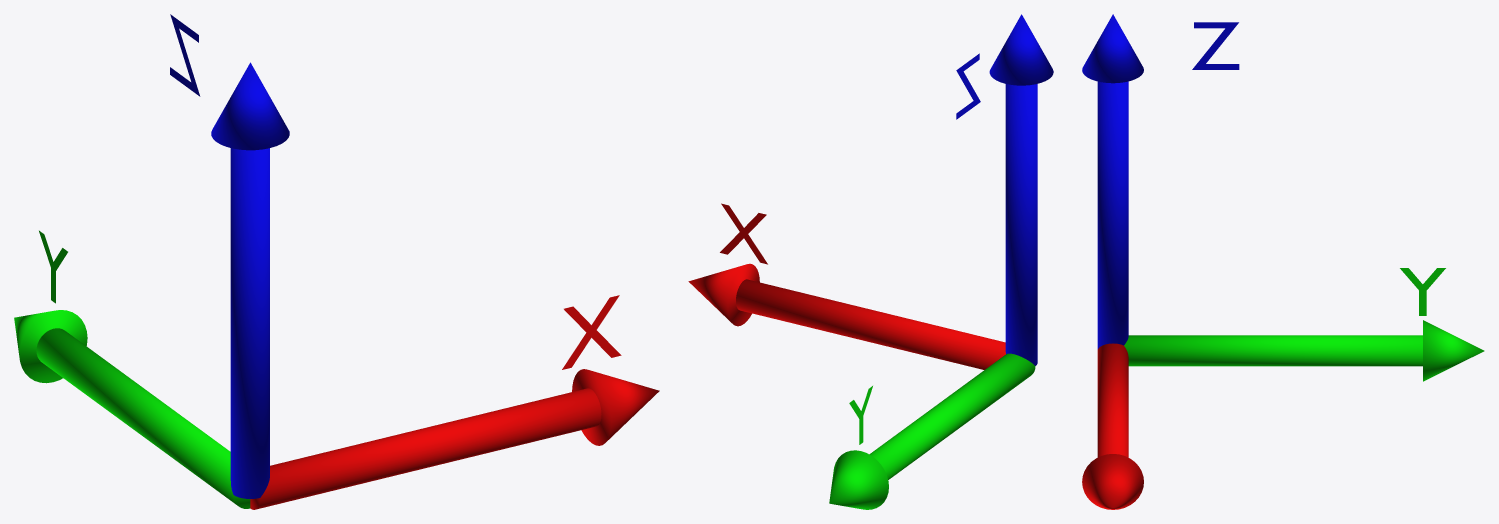
Rendered from AxisArrowFBX.fbx.
3 renders of one model, left to right at view 1: azimuth 30°, elevation 25°; view 2: azimuth 150°, elevation 25°; view 3: azimuth 270°, elevation 25°, orthographic. The views are drawn at different scales.
Visible parts, largest first — view 1: Cylinder; view 2: Cylinder; view 3: Cylinder.
Boxes of the visible parts, x1=… form: Cylinder: x1=14, y1=14, x2=659, y2=509; Cylinder: x1=688, y1=14, x2=1053, y2=509; Cylinder: x1=1082, y1=14, x2=1484, y2=509.
Bounding box in the file's own units: 260 × 260 × 260.
